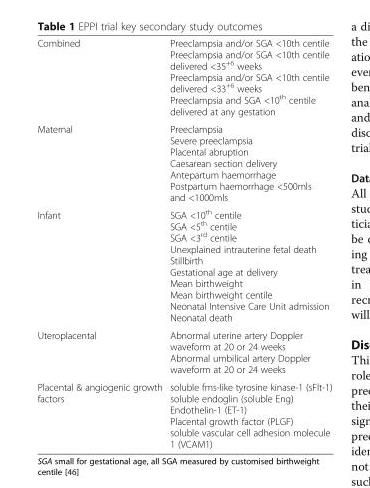table: (36, 37, 331, 449)
table column: (165, 37, 331, 449), (36, 37, 165, 449)
table row: (36, 205, 331, 326), (36, 119, 331, 205), (36, 37, 331, 119), (36, 377, 331, 449), (36, 326, 331, 377)
